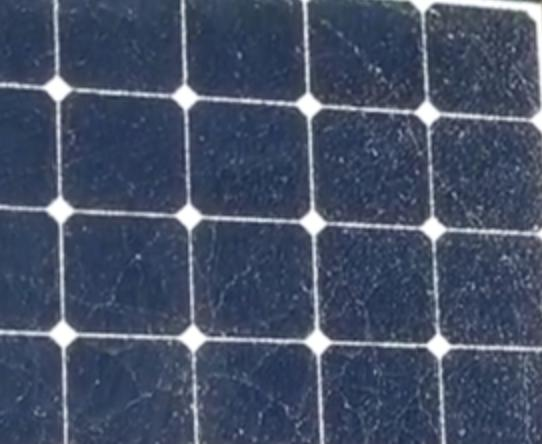Crack: (353, 1, 541, 300)
